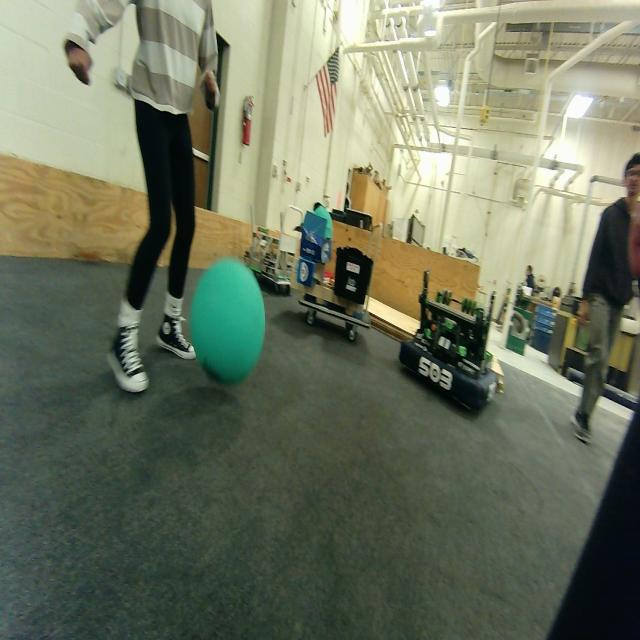algae: (190, 258, 265, 383)
